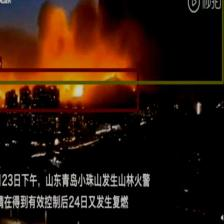fire: (0, 68, 138, 111)
smoke: (0, 0, 223, 83)
